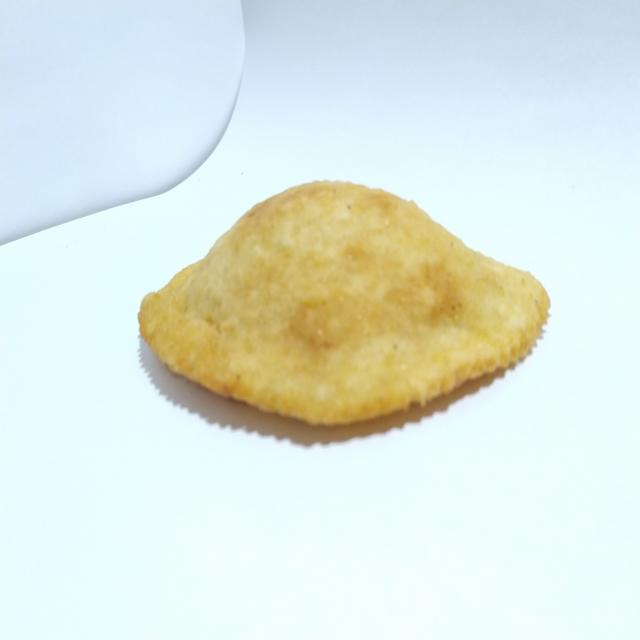Pastel_Mandio: (123, 164, 557, 448)
